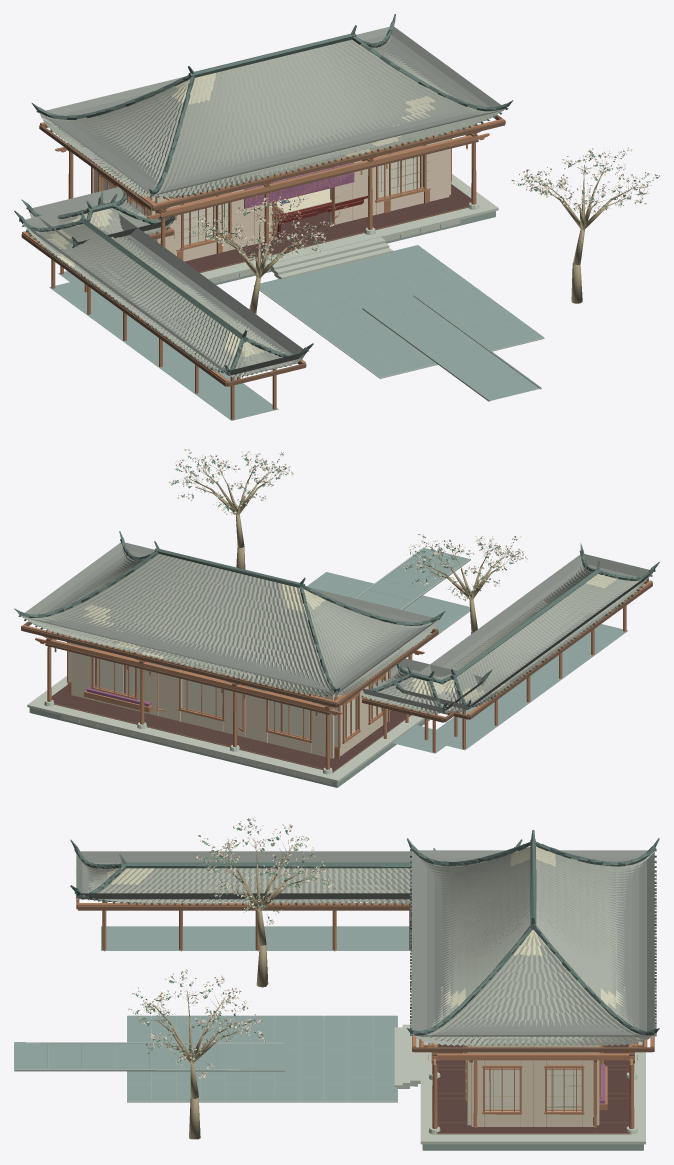
File: nuanxiangwu.glb
3 views of the same model, one above another, from view 1: azimuth 30°, elevation 25°; view 2: azimuth 150°, elevation 25°; view 3: azimuth 270°, elevation 25° (orthographic). The views are drawn at different scales.
Visible parts, largest first — view 1: r15_nuanxiangwu_Sunwen_r18_warm_tile.001, Mobile_nuanxiangwu_paving, r15_nuanxiangwu_Sunwen_r18_warm_roof.001, r15_nuanxiangwu_Sunwen_r18_warm_wood.001, r15_nuanxiangwu_Sunwen_r18_warm_tiledark.001, Mobile_nuanxiangwu_plants, r15_nuanxiangwu_Sunwen_r18_warm_plaster.002, r15_nuanxiangwu_Sunwen_r18_warm_darkwood.001, r15_nuanxiangwu_Sunwen_r18_warm_cutstone.001, Mobile_nuanxiangwu_floorwood, r15_nuanxiangwu_Sunwen_r18_warm_tilelight.001, r15_nuanxiangwu_Sunwen_r18_warm_screen.002 (+5 smaller); view 2: r15_nuanxiangwu_Sunwen_r18_warm_tile.001, r15_nuanxiangwu_Sunwen_r18_warm_roof.001, Mobile_nuanxiangwu_paving, r15_nuanxiangwu_Sunwen_r18_warm_wood.001, r15_nuanxiangwu_Sunwen_r18_warm_plaster.002, r15_nuanxiangwu_Sunwen_r18_warm_tiledark.001, r15_nuanxiangwu_Sunwen_r18_warm_cutstone.001, Mobile_nuanxiangwu_plants, r15_nuanxiangwu_Sunwen_r18_warm_darkwood.001, Mobile_nuanxiangwu_floorwood, r15_nuanxiangwu_Sunwen_r18_warm_screen.001, r15_nuanxiangwu_Sunwen_r18_warm_tilelight.001 (+2 smaller); view 3: r15_nuanxiangwu_Sunwen_r18_warm_tile.001, Mobile_nuanxiangwu_paving, r15_nuanxiangwu_Sunwen_r18_warm_roof.001, Mobile_nuanxiangwu_plants, r15_nuanxiangwu_Sunwen_r18_warm_tiledark.001, r15_nuanxiangwu_Sunwen_r18_warm_wood.001, r15_nuanxiangwu_Sunwen_r18_warm_cutstone.001, r15_nuanxiangwu_Sunwen_r18_warm_plaster.002, Mobile_nuanxiangwu_floorwood, r15_nuanxiangwu_Sunwen_r18_warm_darkwood.001, r15_nuanxiangwu_Sunwen_r18_warm_stone.001, r15_nuanxiangwu_Sunwen_r18_warm_screen.002 (+2 smaller).
Boxes of the visible parts, x1=… form: r15_nuanxiangwu_Sunwen_r18_warm_tile.001: x1=23, y1=34, x2=505, y2=378; Mobile_nuanxiangwu_paving: x1=49, y1=245, x2=543, y2=420; r15_nuanxiangwu_Sunwen_r18_warm_roof.001: x1=23, y1=26, x2=504, y2=375; r15_nuanxiangwu_Sunwen_r18_warm_wood.001: x1=22, y1=118, x2=504, y2=419; r15_nuanxiangwu_Sunwen_r18_warm_tiledark.001: x1=14, y1=14, x2=513, y2=374; Mobile_nuanxiangwu_plants: x1=186, y1=147, x2=659, y2=314; r15_nuanxiangwu_Sunwen_r18_warm_plaster.002: x1=94, y1=127, x2=450, y2=261; r15_nuanxiangwu_Sunwen_r18_warm_darkwood.001: x1=21, y1=114, x2=505, y2=386; r15_nuanxiangwu_Sunwen_r18_warm_cutstone.001: x1=200, y1=174, x2=498, y2=283; Mobile_nuanxiangwu_floorwood: x1=184, y1=184, x2=471, y2=272; r15_nuanxiangwu_Sunwen_r18_warm_tilelight.001: x1=47, y1=45, x2=435, y2=356; r15_nuanxiangwu_Sunwen_r18_warm_screen.002: x1=103, y1=155, x2=422, y2=245; r15_nuanxiangwu_Sunwen_r18_warm_tile.001: x1=21, y1=546, x2=651, y2=713; r15_nuanxiangwu_Sunwen_r18_warm_roof.001: x1=21, y1=542, x2=651, y2=712; Mobile_nuanxiangwu_paving: x1=307, y1=548, x2=628, y2=753; r15_nuanxiangwu_Sunwen_r18_warm_wood.001: x1=21, y1=580, x2=652, y2=769; r15_nuanxiangwu_Sunwen_r18_warm_plaster.002: x1=71, y1=632, x2=387, y2=758; r15_nuanxiangwu_Sunwen_r18_warm_tiledark.001: x1=14, y1=531, x2=659, y2=715; r15_nuanxiangwu_Sunwen_r18_warm_cutstone.001: x1=27, y1=676, x2=431, y2=784; Mobile_nuanxiangwu_plants: x1=168, y1=449, x2=527, y2=633; r15_nuanxiangwu_Sunwen_r18_warm_darkwood.001: x1=21, y1=580, x2=652, y2=772; Mobile_nuanxiangwu_floorwood: x1=51, y1=685, x2=410, y2=771; r15_nuanxiangwu_Sunwen_r18_warm_screen.001: x1=68, y1=642, x2=338, y2=746; r15_nuanxiangwu_Sunwen_r18_warm_tilelight.001: x1=84, y1=559, x2=616, y2=702; r15_nuanxiangwu_Sunwen_r18_warm_tile.001: x1=75, y1=850, x2=655, y2=1046; Mobile_nuanxiangwu_paving: x1=14, y1=926, x2=409, y2=1101; r15_nuanxiangwu_Sunwen_r18_warm_roof.001: x1=76, y1=850, x2=654, y2=1036; Mobile_nuanxiangwu_plants: x1=128, y1=817, x2=335, y2=1139; r15_nuanxiangwu_Sunwen_r18_warm_tiledark.001: x1=70, y1=830, x2=659, y2=1036; r15_nuanxiangwu_Sunwen_r18_warm_wood.001: x1=78, y1=899, x2=653, y2=1128; r15_nuanxiangwu_Sunwen_r18_warm_cutstone.001: x1=394, y1=1024, x2=645, y2=1144; r15_nuanxiangwu_Sunwen_r18_warm_plaster.002: x1=467, y1=1037, x2=599, y2=1126; Mobile_nuanxiangwu_floorwood: x1=436, y1=1039, x2=630, y2=1132; r15_nuanxiangwu_Sunwen_r18_warm_darkwood.001: x1=76, y1=898, x2=654, y2=1134; r15_nuanxiangwu_Sunwen_r18_warm_stone.001: x1=14, y1=1042, x2=643, y2=1150; r15_nuanxiangwu_Sunwen_r18_warm_screen.002: x1=485, y1=1068, x2=581, y2=1109.
Bounding box in the file's own units: 26.67 × 9.18 × 28.62.
